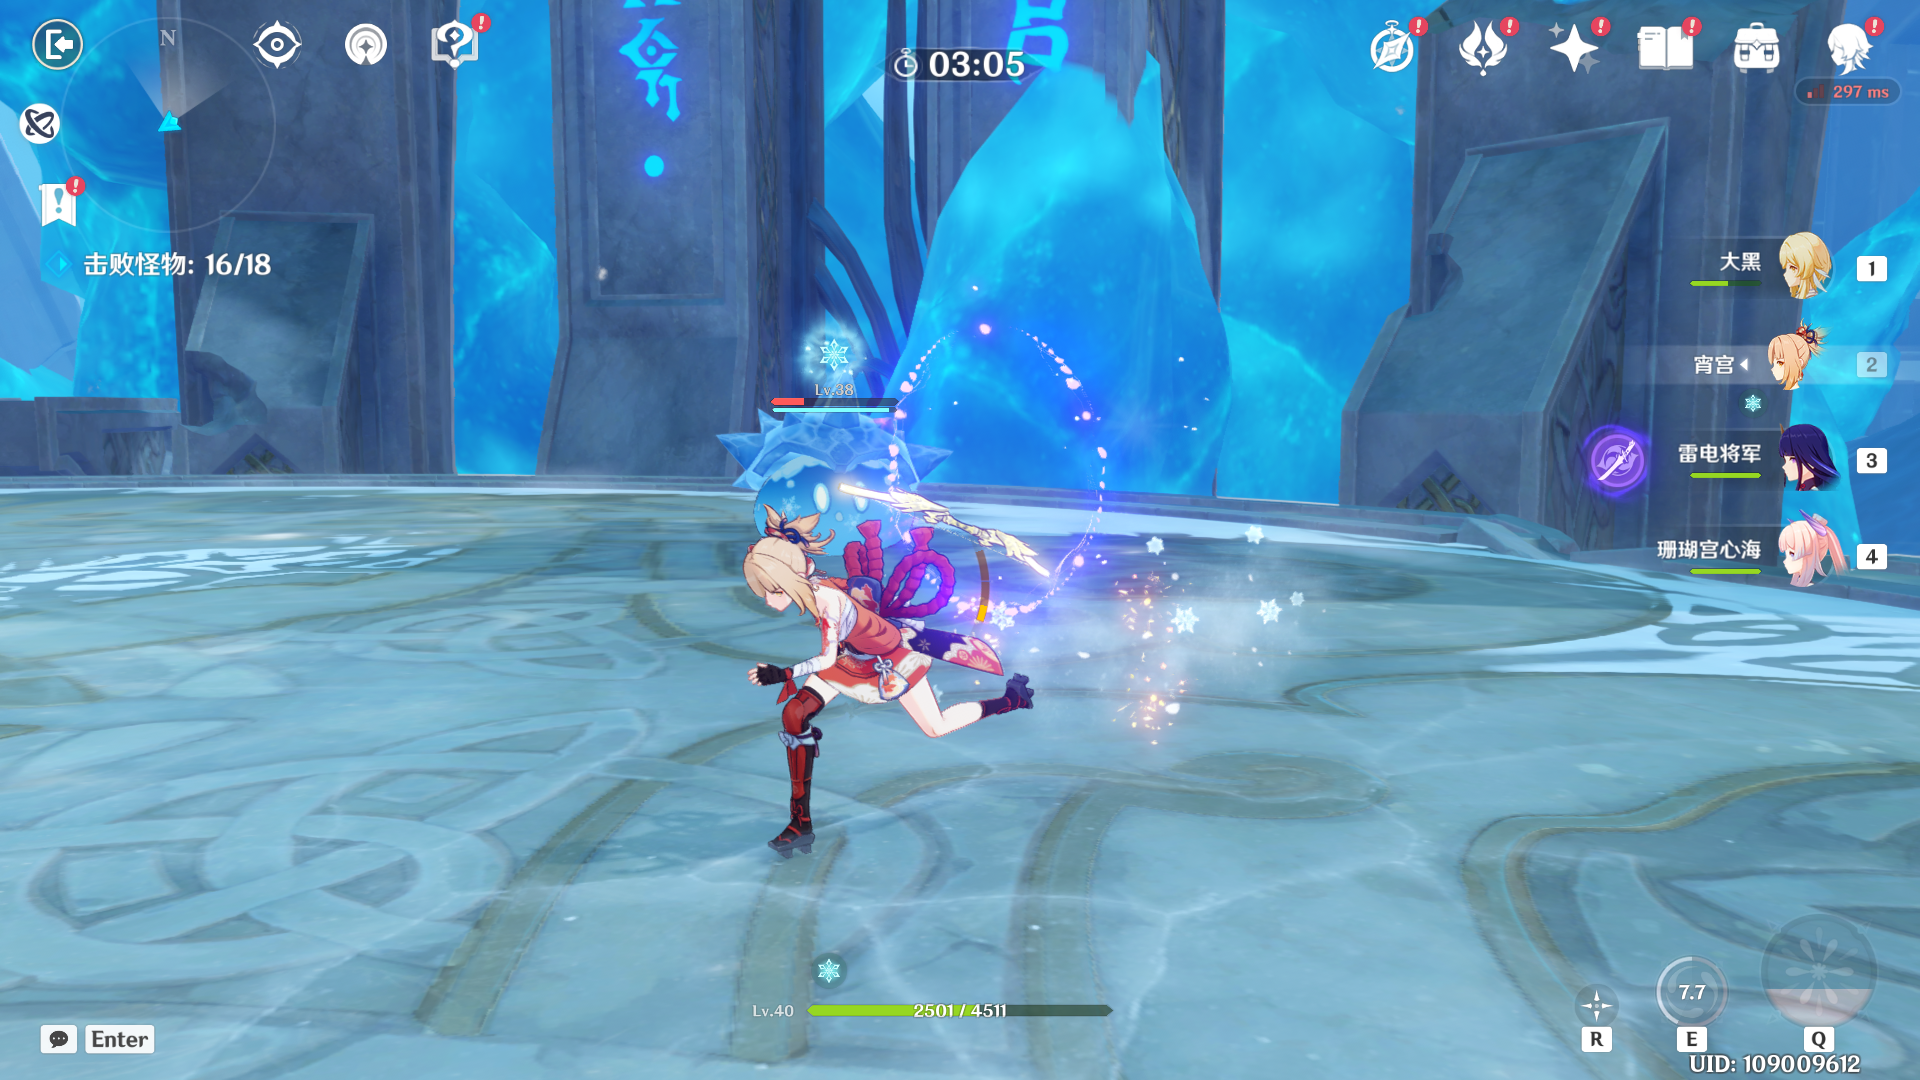character: (707, 513, 1069, 873)
slime: (698, 388, 955, 574)
